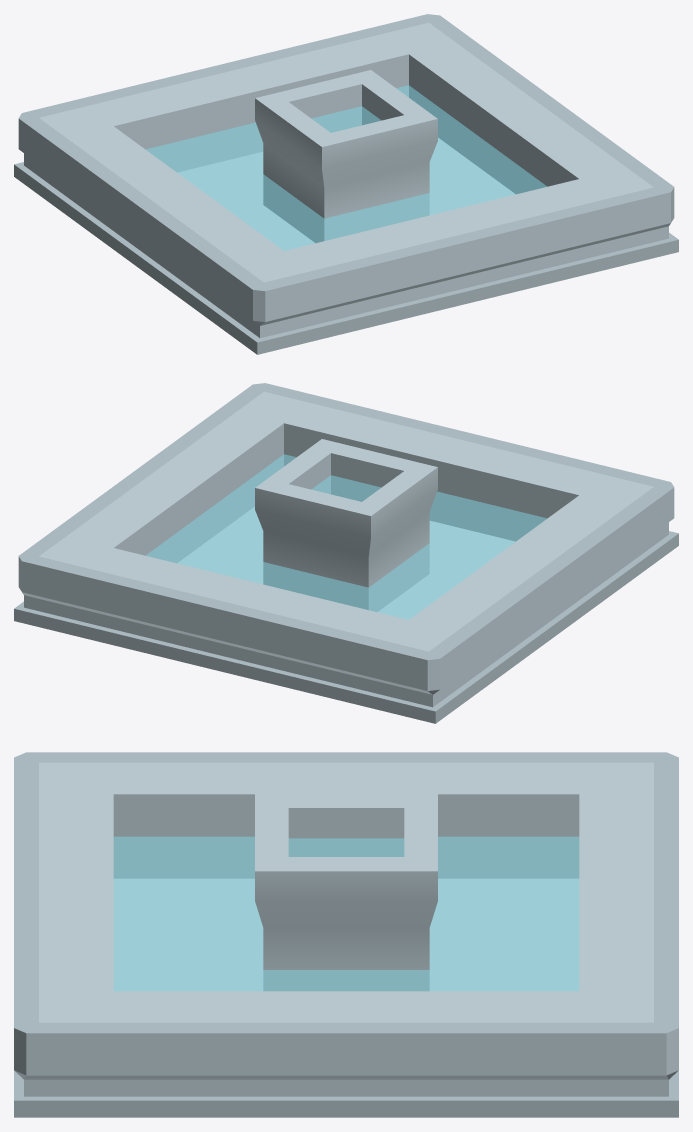
The model's file is fountain_square.glb.
3 views of the same model, one above another, from view 1: azimuth 30°, elevation 25°; view 2: azimuth 150°, elevation 25°; view 3: azimuth 270°, elevation 25° (orthographic). The views are drawn at different scales.
Parts seen in each view (by area): view 1: fountainSquareDetail; view 2: fountainSquareDetail; view 3: fountainSquareDetail.
Boxes of the visible parts, x1,y1,x2,y2 form: fountainSquareDetail: [14, 14, 678, 354]; fountainSquareDetail: [14, 383, 678, 723]; fountainSquareDetail: [14, 752, 678, 1117].
Size of the model in its own units: 2 by 0.48 by 2.
